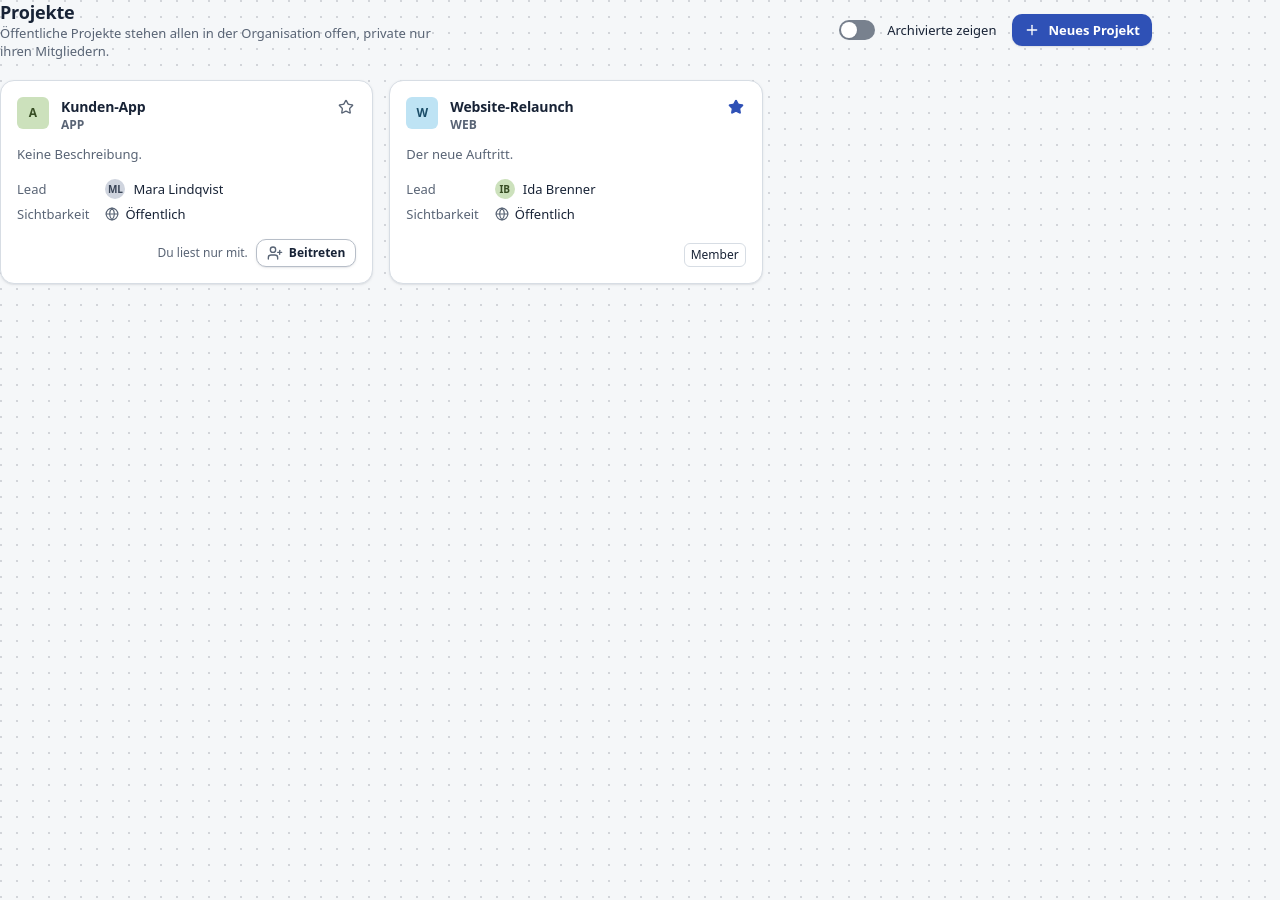
Scenario: CreateProjectDialog › shows refusals without a field of their own above the buttons
Expected: the link "Kunden-App" is shown, [61, 97, 146, 116]
Click the button "Neues Projekt" at (1082, 30), box [1012, 14, 1152, 46]
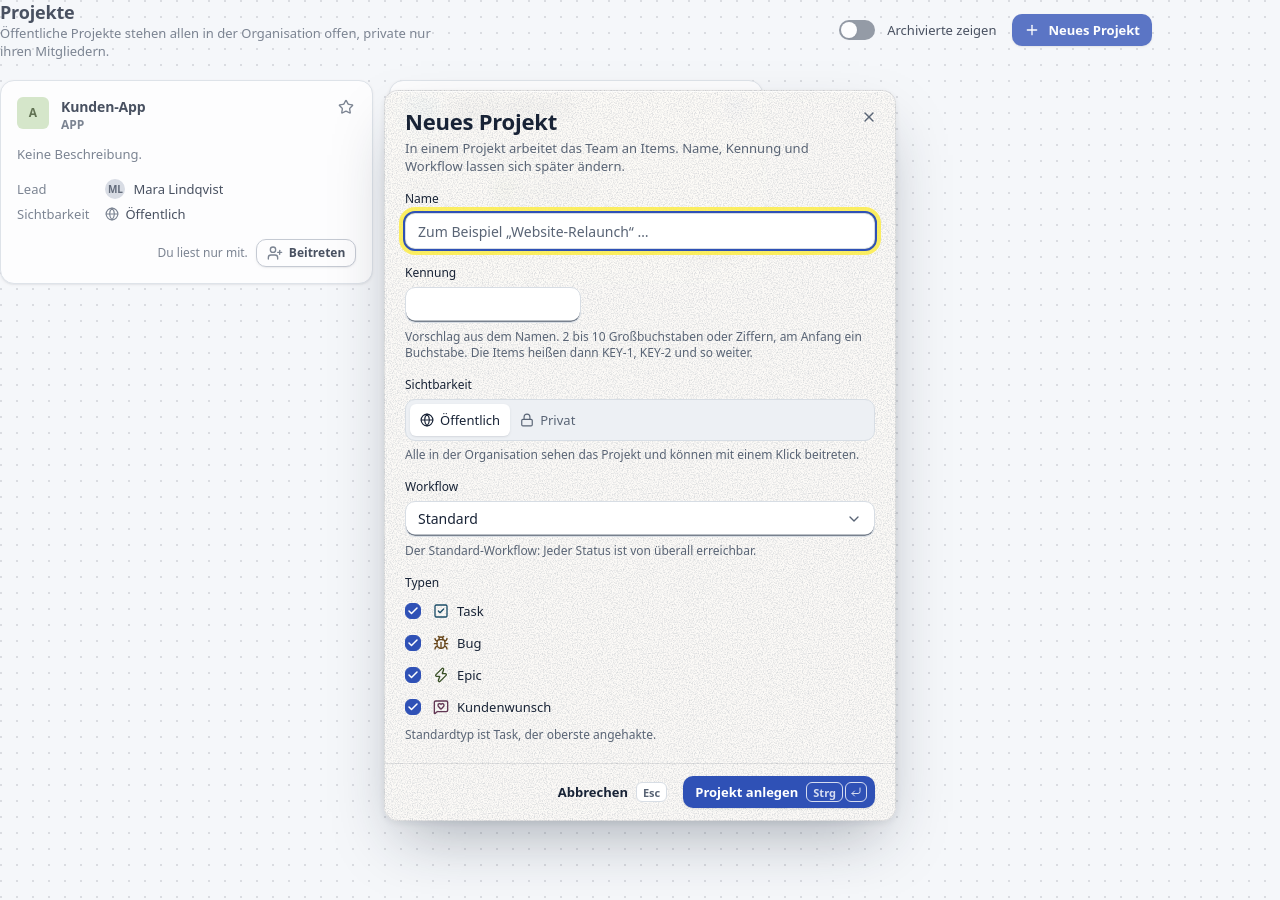
Result: the field labelled "Name" is shown
Type "Betrieb" into the field labelled "Name" at (640, 231), box [405, 213, 875, 249]
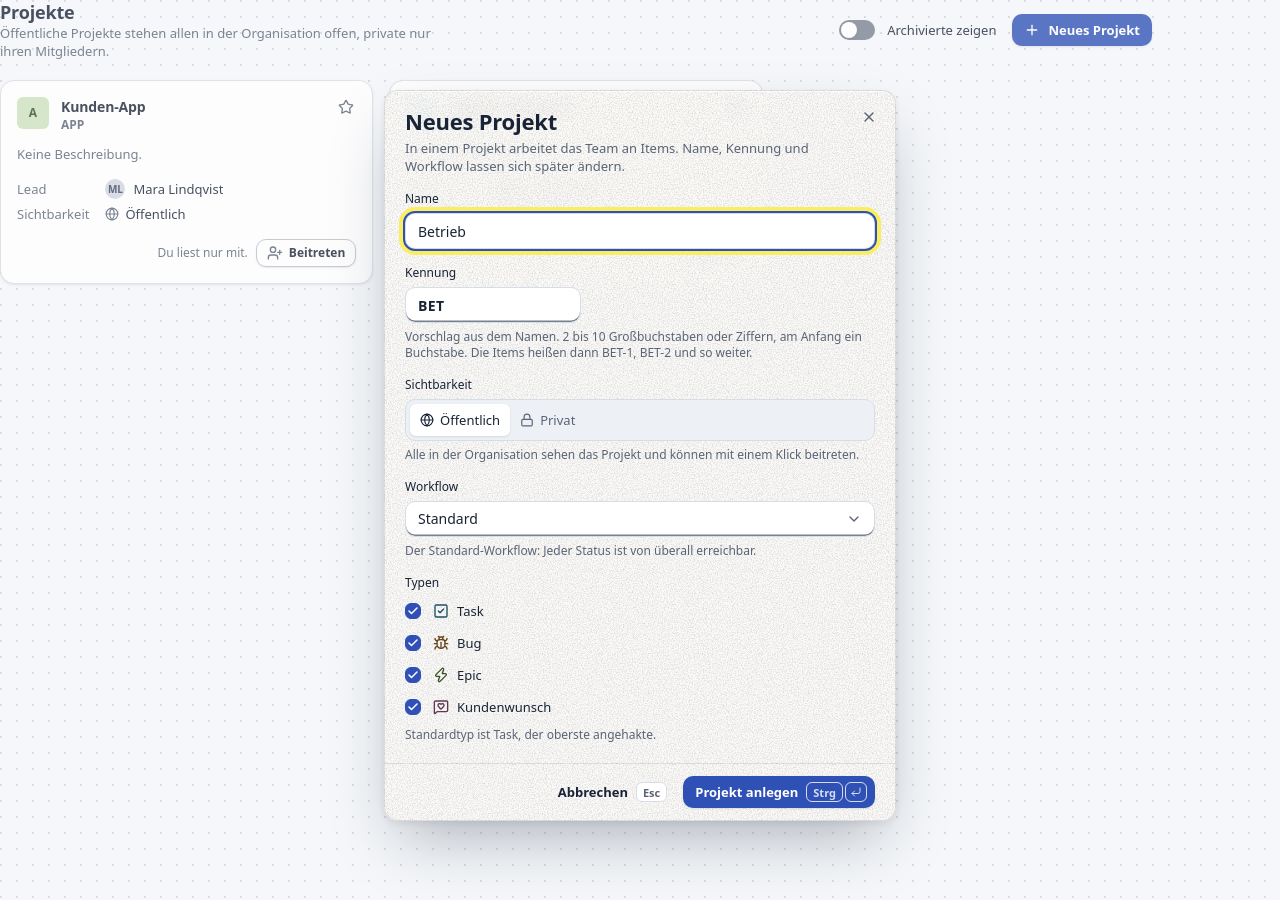
Click the button "Projekt anlegen Strg" at (779, 792), box [683, 776, 875, 808]
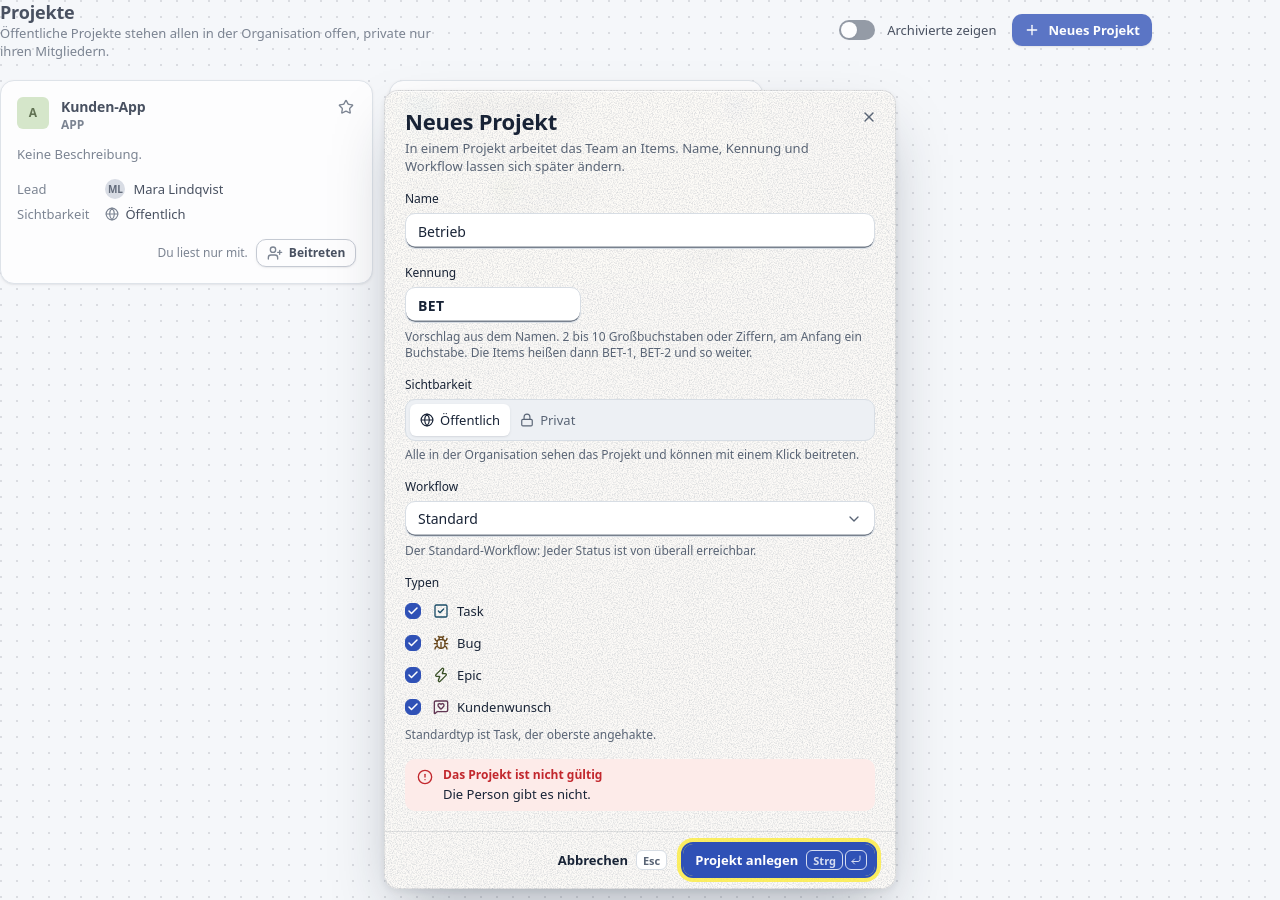
Result: the message shows "Das Projekt ist nicht gültig" at [443, 766, 602, 783]
Result: the message shows "Die Person gibt es nicht." at [443, 785, 591, 803]
